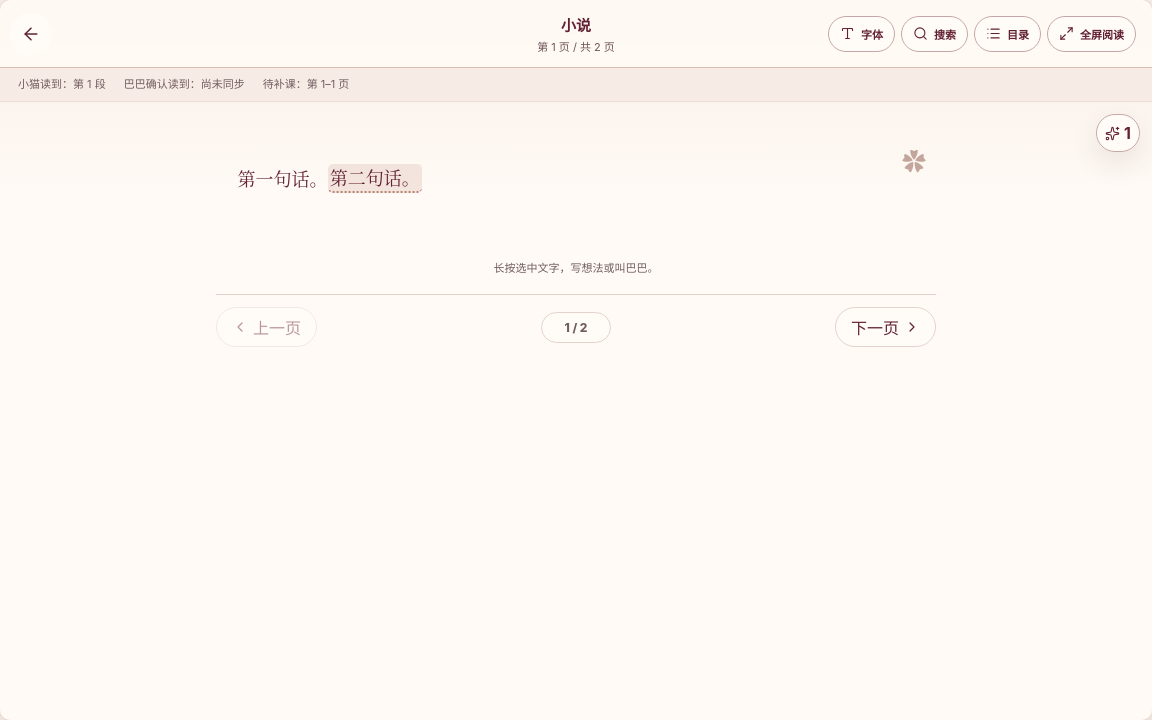
Scenario: NovelReader › shows saved highlights and lets the thought be edited
The image size is (1152, 720).
Expected: the button "第二句话。" is shown, [328,164,422,193]
Expected: the dialog "本页想法" is not shown
Click the button named "本页想法".
click(1118, 133)  # box [1096,114,1140,152]
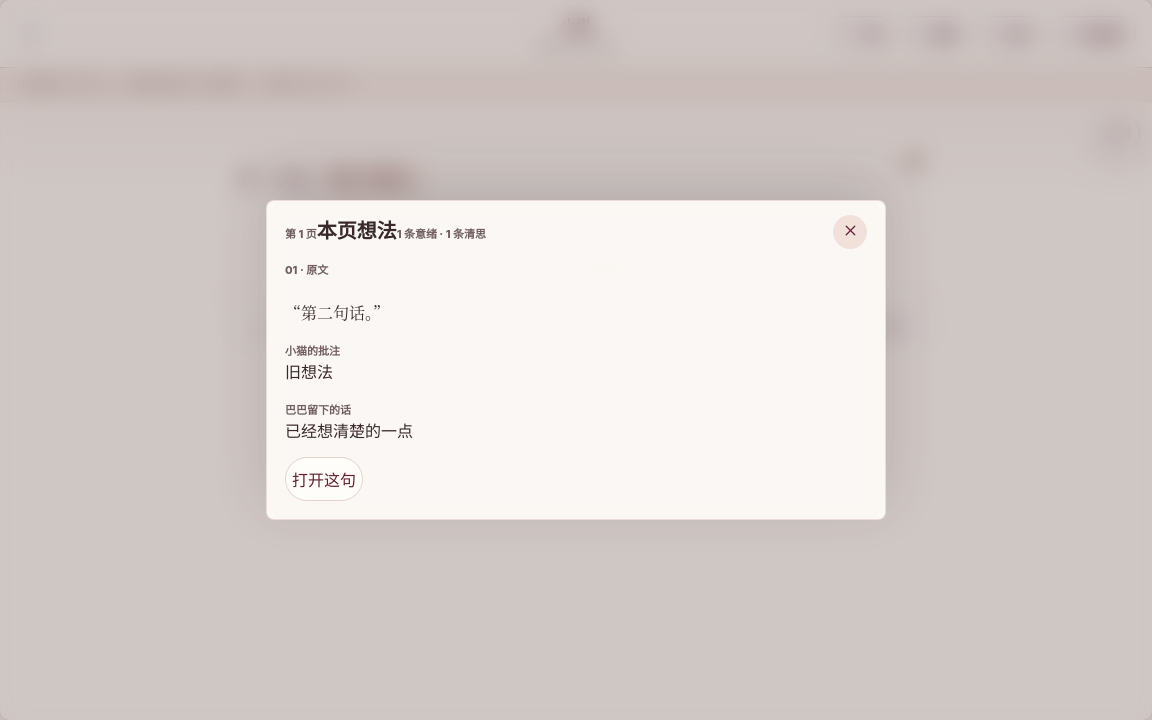
Result: the dialog "本页想法" is shown at [266,200,886,520]
Result: the text "已经想清楚的一点" is shown at [285,421,413,441]
Click the button "打开这句".
click(324, 479)  # box [285,457,363,501]
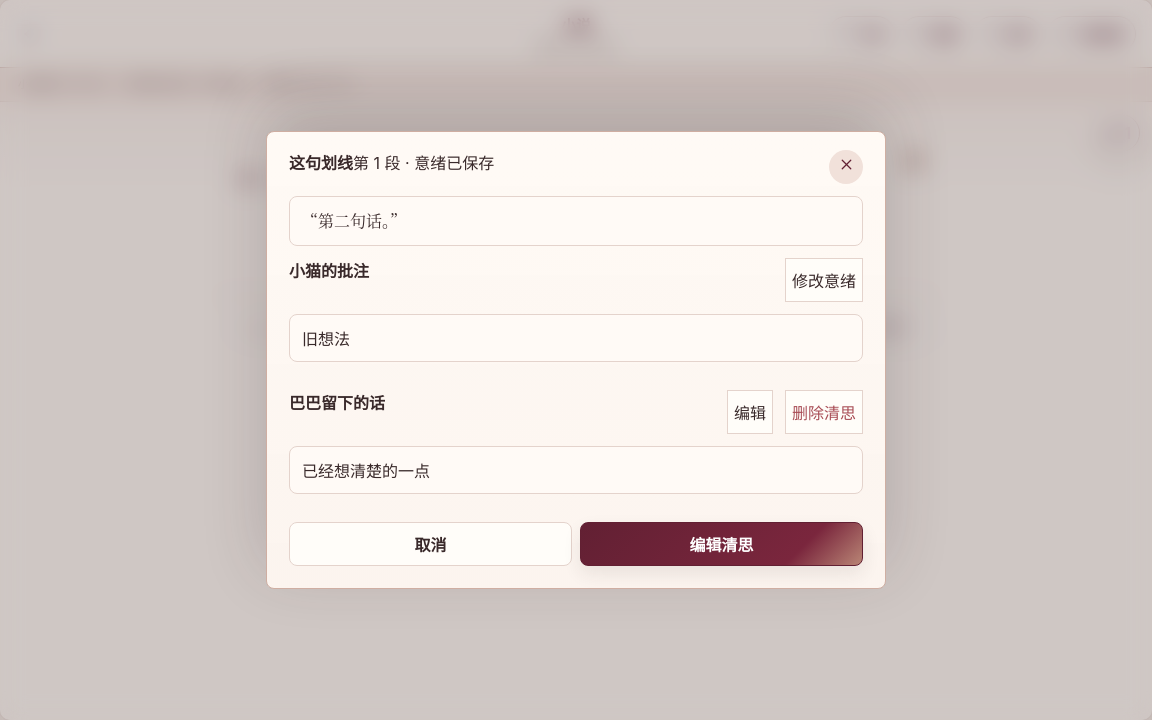
Result: the dialog named "划线清思" is shown at [266,131,886,589]
Click the button "编辑清思".
click(722, 544)  # box [580,522,863,566]
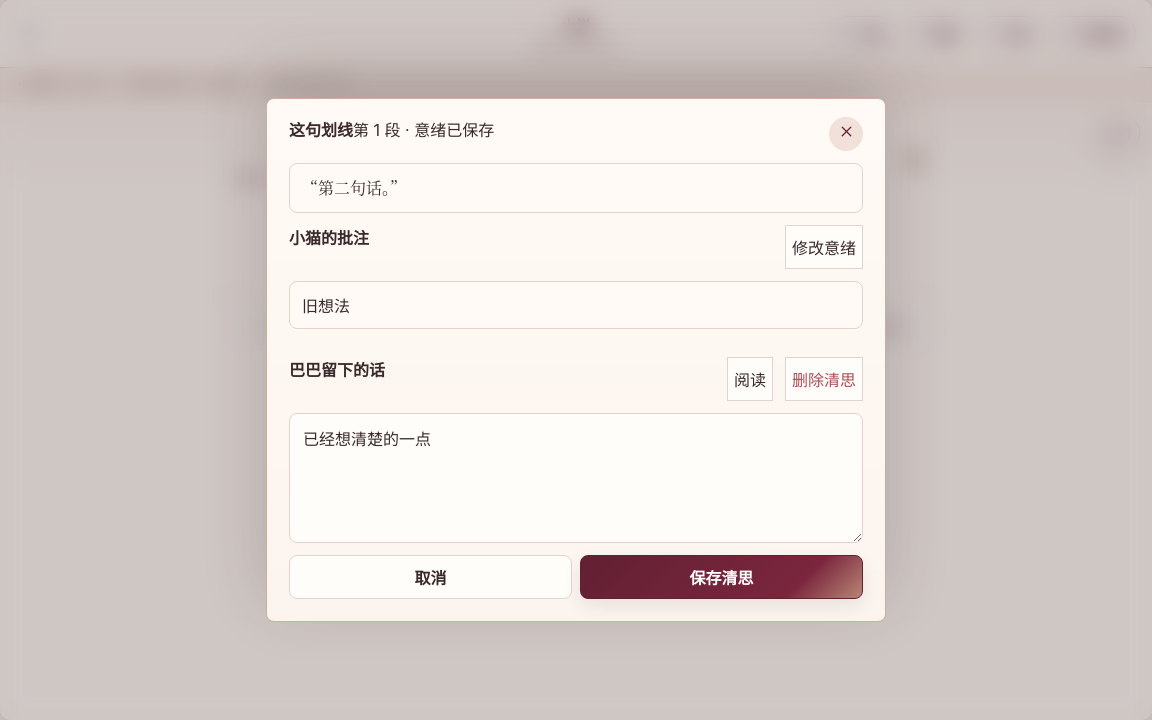
Result: the text box with placeholder "粘贴巴巴说得好的地方，或写下聊完之后真正想清楚的内容…" holds "已经想清楚的一点" at [289,413,863,543]
Click the button "修改意绪".
click(824, 247)  # box [785,225,863,269]
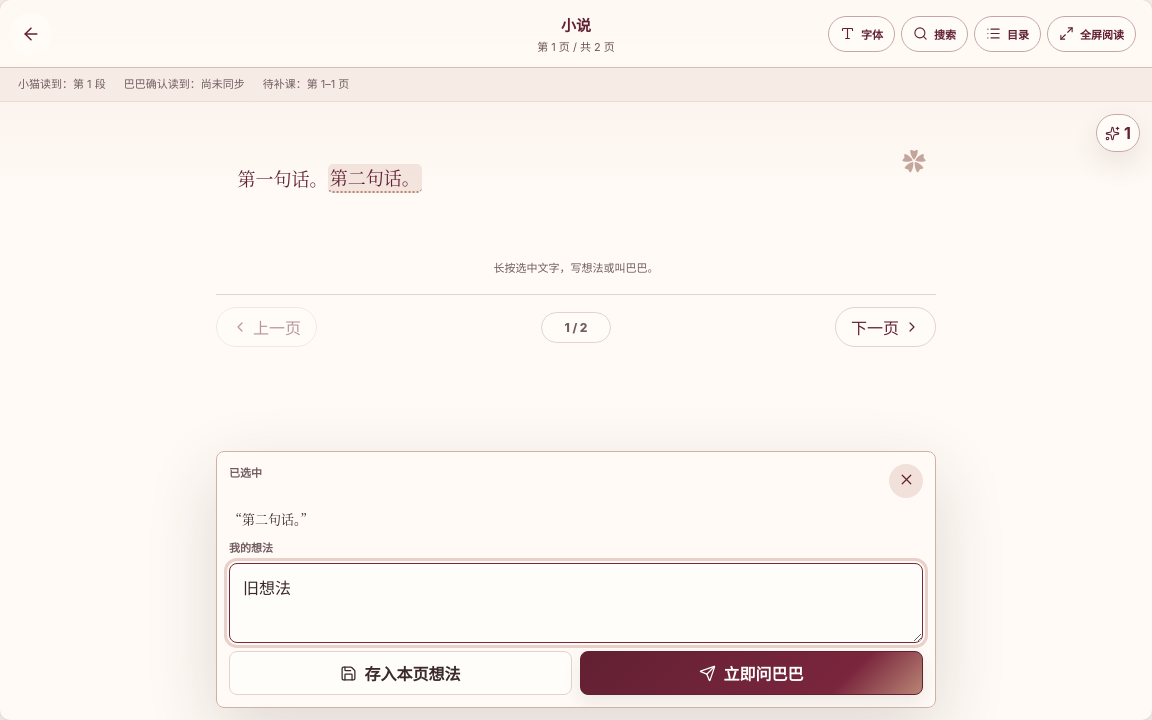
Result: the text box named "我的划线想法" holds "旧想法" at [229,563,923,643]
